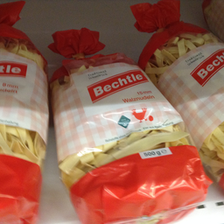pasta: (50, 28, 208, 220), (1, 18, 49, 224)
